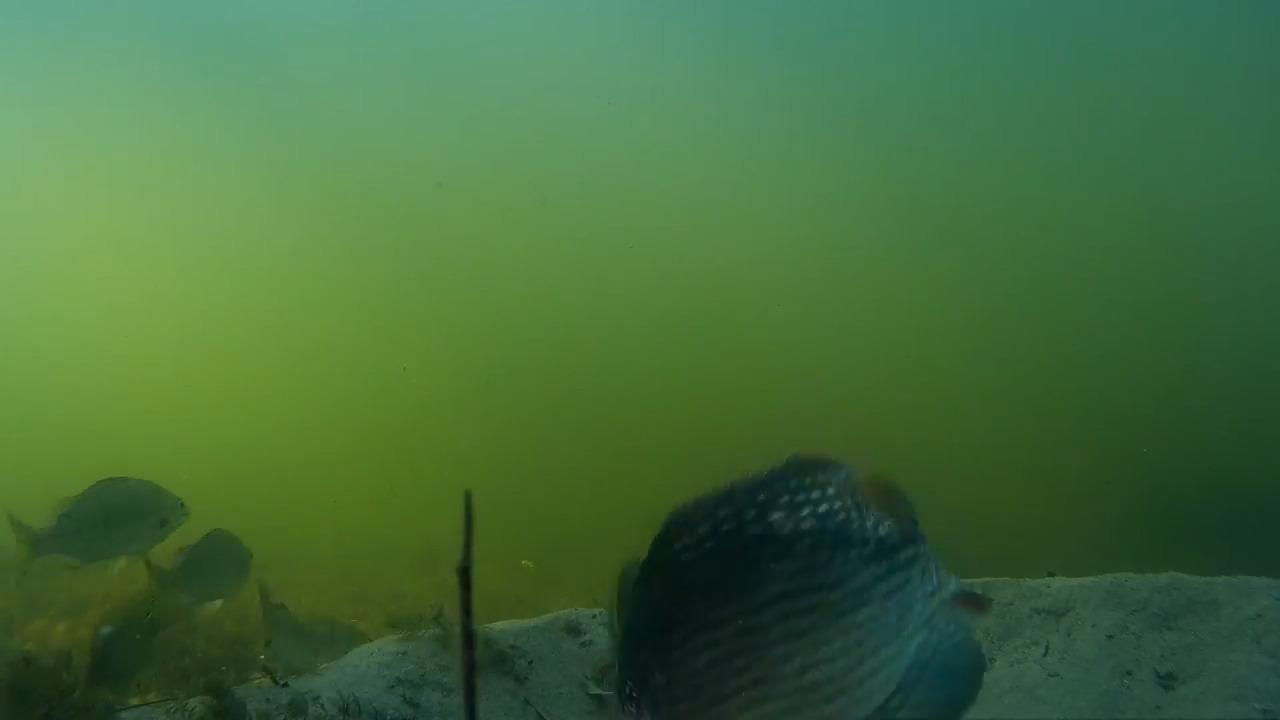Tilapia: (578, 447, 987, 720), (11, 470, 222, 574), (149, 510, 277, 606)
